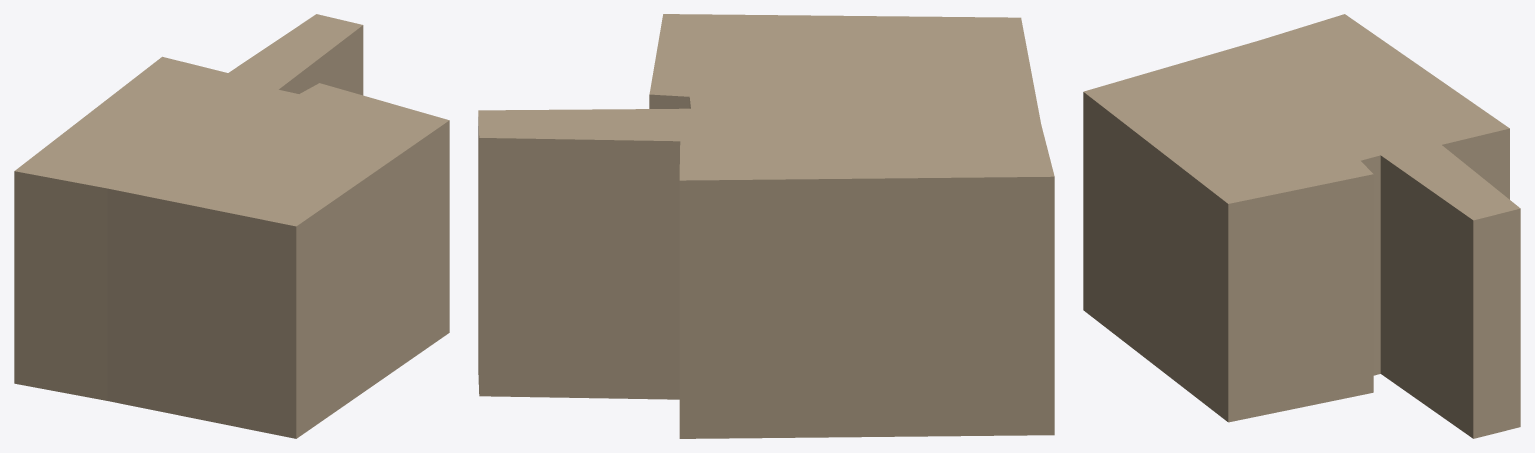
The model's file is bld_98862356.dae.
The picture shows the model from 3 angles, left to right: view 1: azimuth 30°, elevation 25°; view 2: azimuth 150°, elevation 25°; view 3: azimuth 270°, elevation 25°; orthographic projection. The views are drawn at different scales.
Visible parts, largest first — view 1: bld_98862356; view 2: bld_98862356; view 3: bld_98862356.
Part boxes in pixels (x1,y1,x2,y2): bld_98862356: [14, 14, 449, 438]; bld_98862356: [478, 14, 1054, 438]; bld_98862356: [1083, 14, 1520, 438].
Bounding box in the file's own units: 16.21 × 14.51 × 8.
